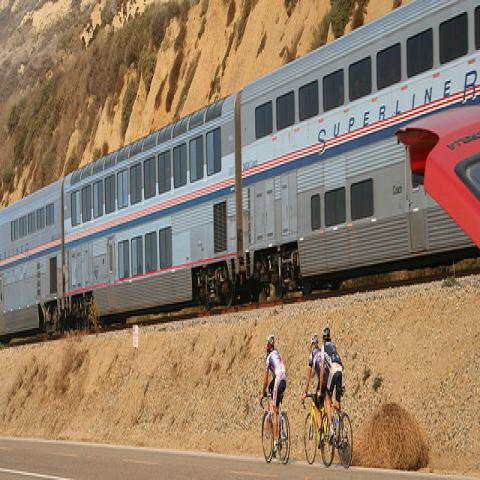car: (392, 103, 480, 255)
